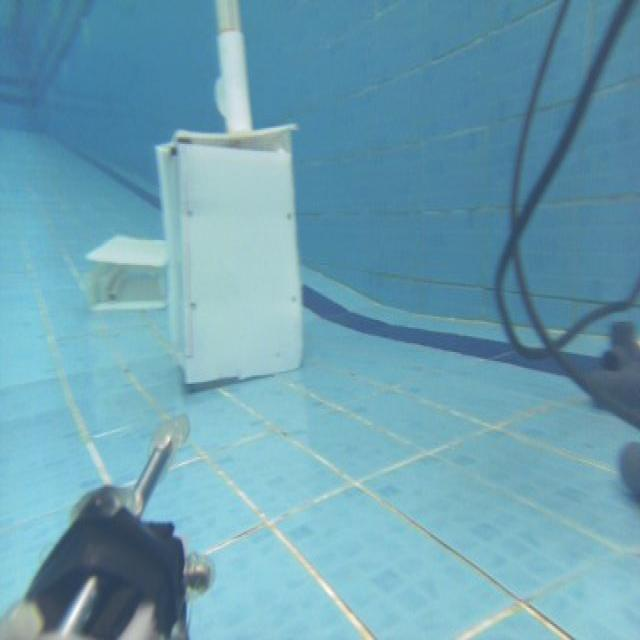Cube: (154, 121, 305, 389)
Cuboid: (82, 226, 171, 320)
